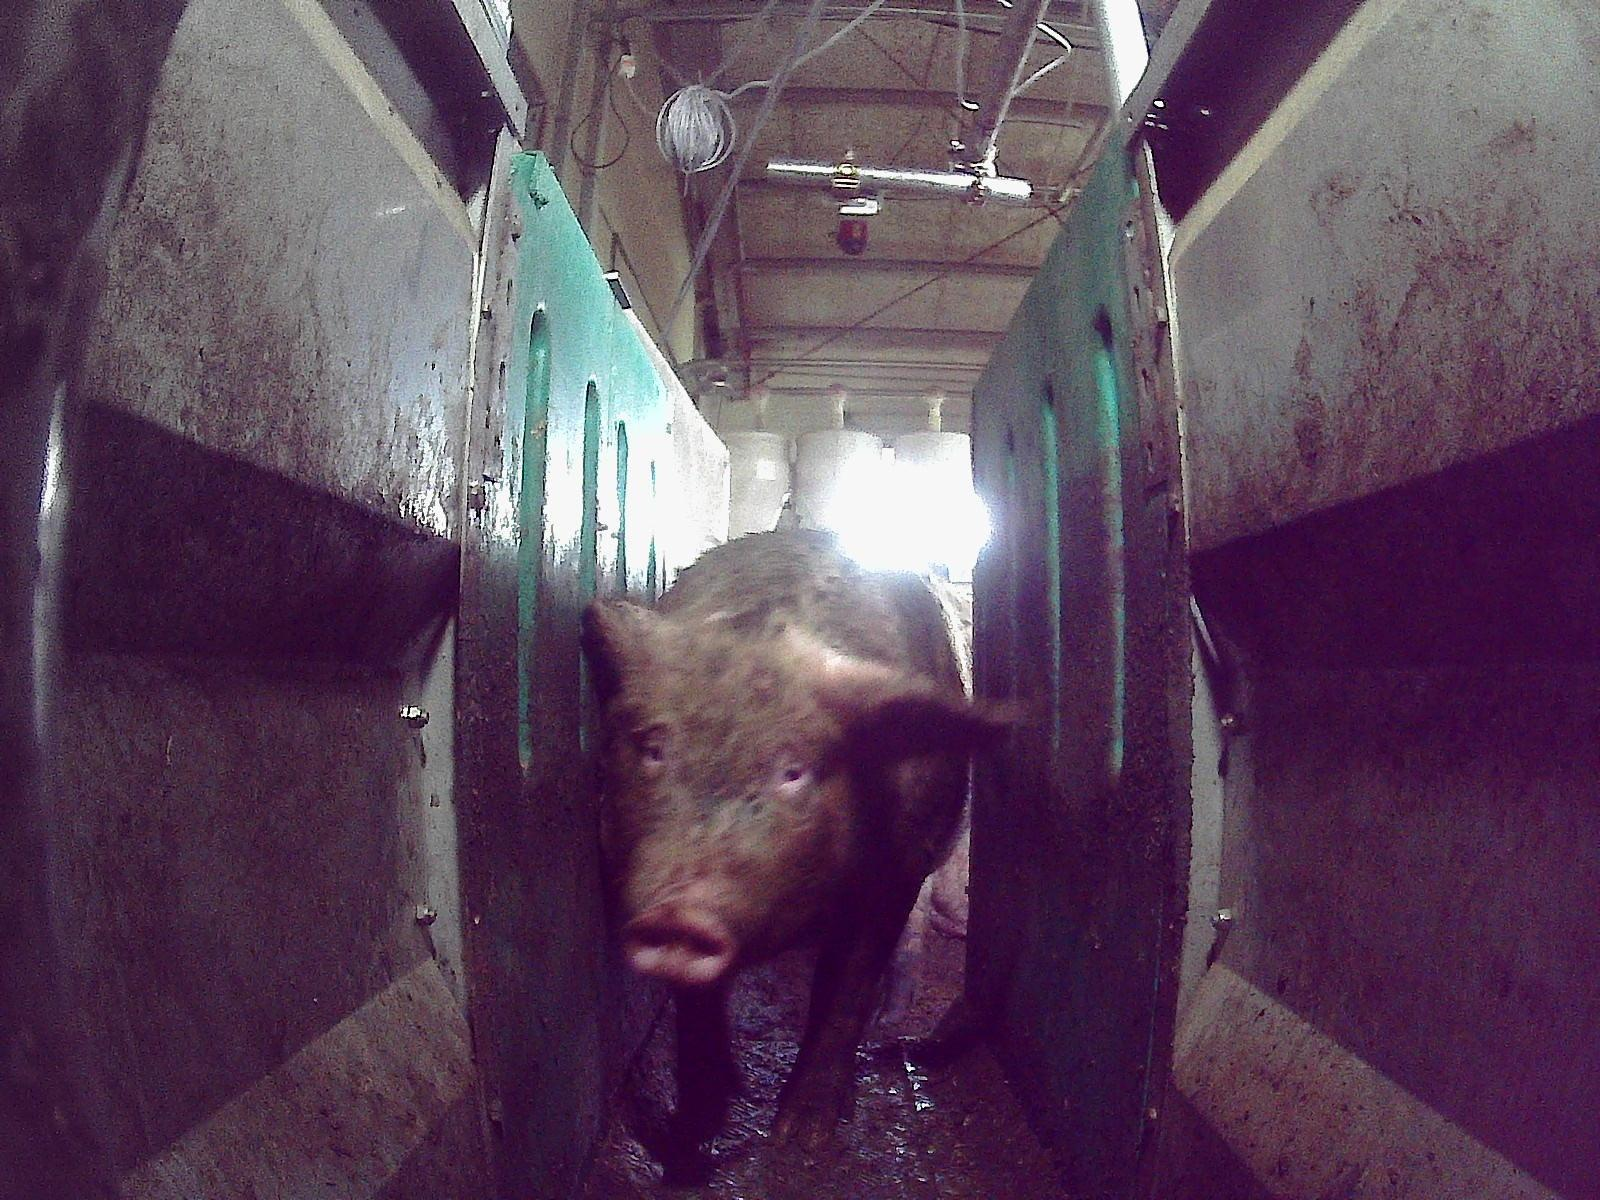Face: (607, 618, 858, 985)
